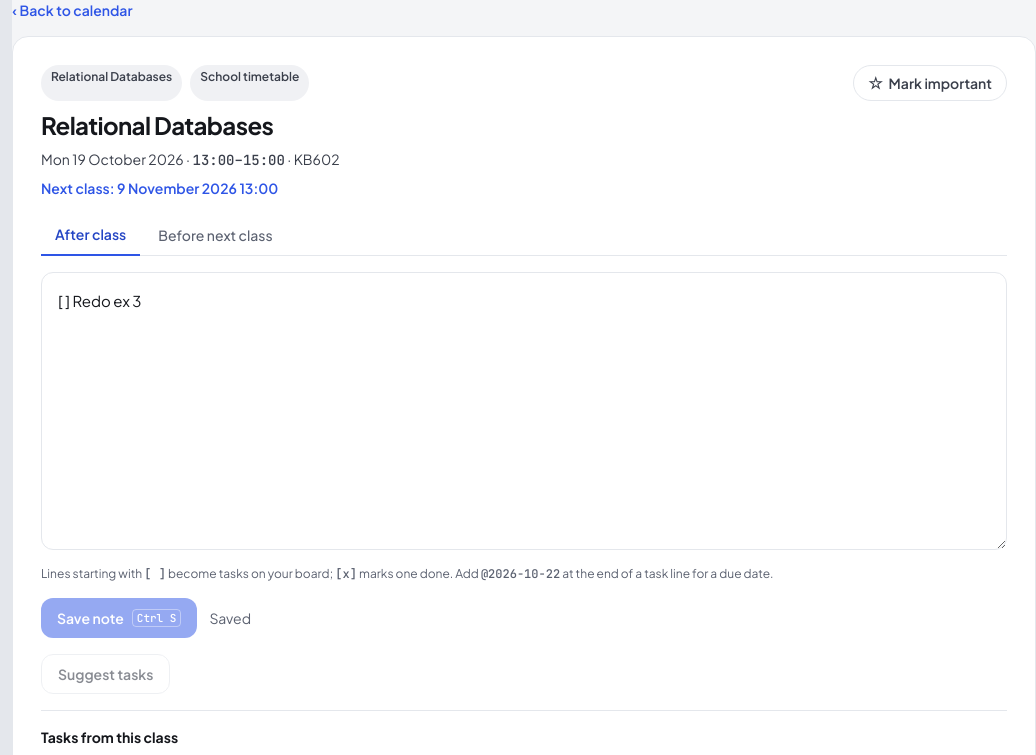
Test: EventPage › blocks ticking tasks while a note has unsaved changes
The image size is (1036, 755).
Replace the text in the text box named "After class note" with "edited". click: (524, 411)
box: [41, 272, 1007, 550]
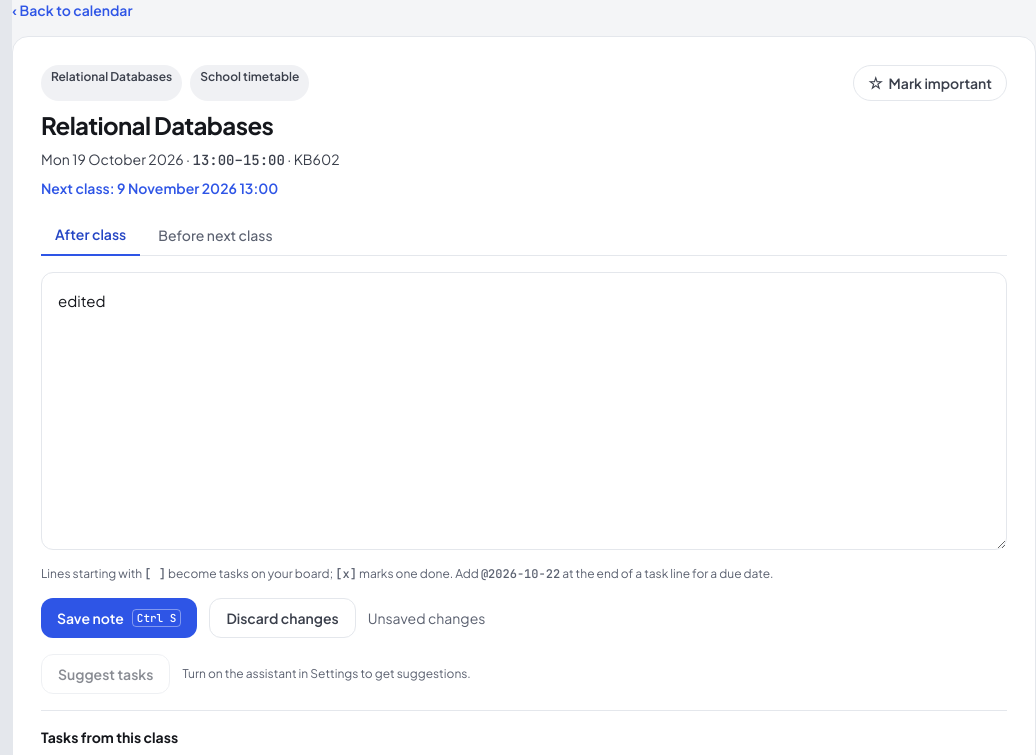
Click the button "Save note Ctrl S". click: (119, 618)
box: [41, 598, 197, 638]
(page scrolled)
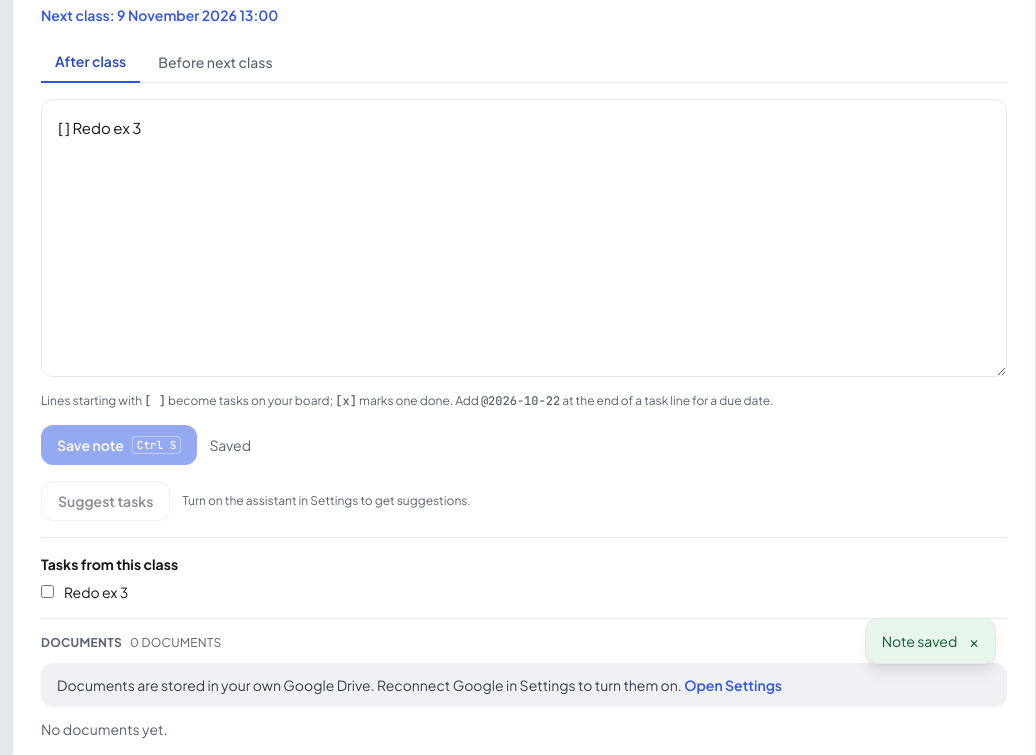
Now the checkbox labelled "Redo ex 3" is enabled, box [41, 585, 54, 598]
